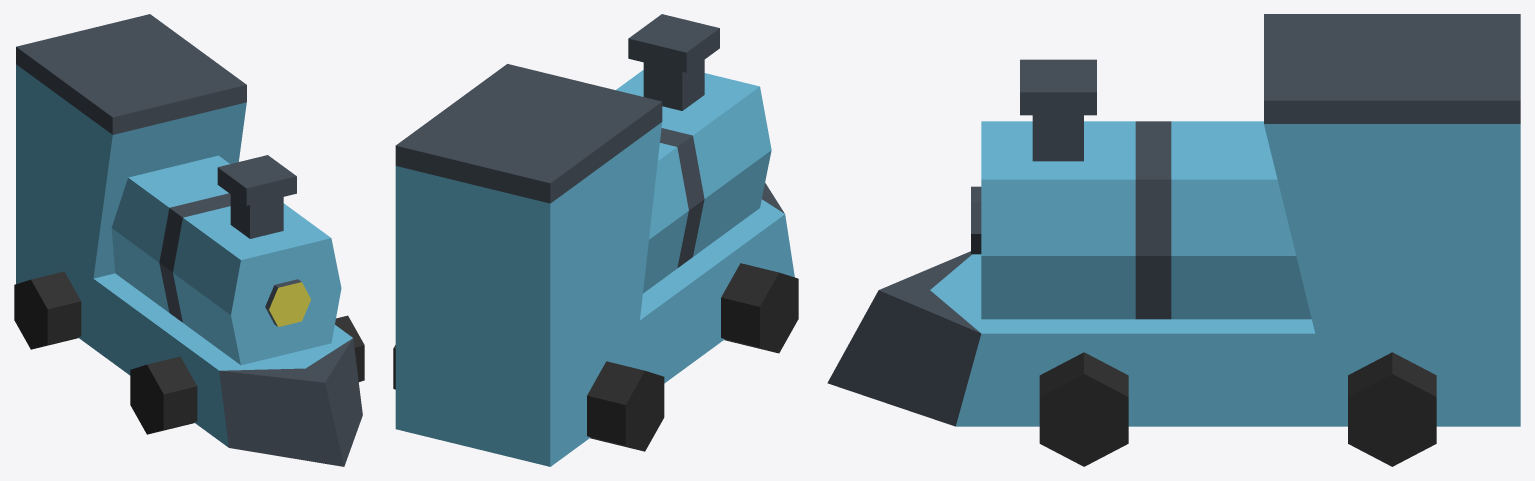
The model's file is TrainLocomotive.fbx.
The picture shows the model from 3 angles, left to right: view 1: azimuth 30°, elevation 25°; view 2: azimuth 150°, elevation 25°; view 3: azimuth 270°, elevation 25°; orthographic projection. The views are drawn at different scales.
Visible parts, largest first — view 1: Train, FrontWheel, BackWheel; view 2: Train, BackWheel, FrontWheel; view 3: Train, FrontWheel, BackWheel.
Part boxes in pixels (x1,y1,x2,y2): Train: (16, 14, 362, 466); FrontWheel: (130, 315, 364, 434); BackWheel: (14, 271, 81, 349); Train: (395, 14, 794, 466); BackWheel: (393, 345, 664, 451); FrontWheel: (721, 263, 798, 353); Train: (827, 14, 1520, 426); FrontWheel: (1039, 352, 1128, 466); BackWheel: (1348, 352, 1436, 466).
Size of the model in its own units: 300 by 370 by 675.
